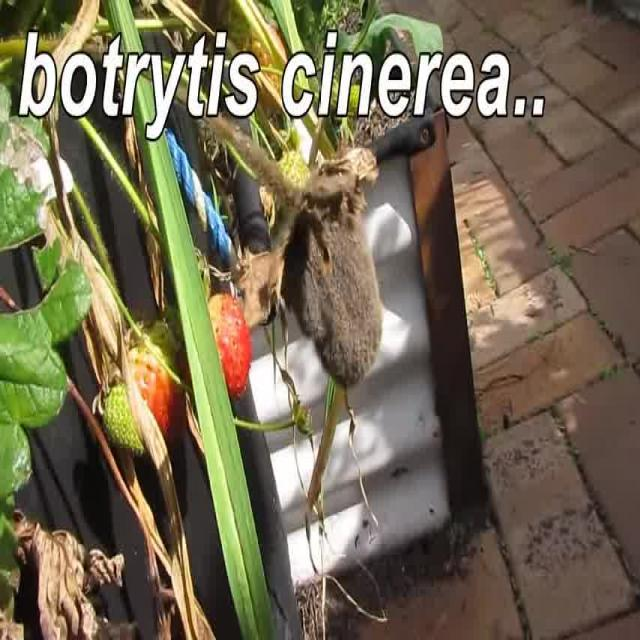Fruta sana: (120, 320, 188, 455), (200, 292, 255, 401), (100, 380, 144, 462)
Moho gris: (286, 194, 384, 388)
